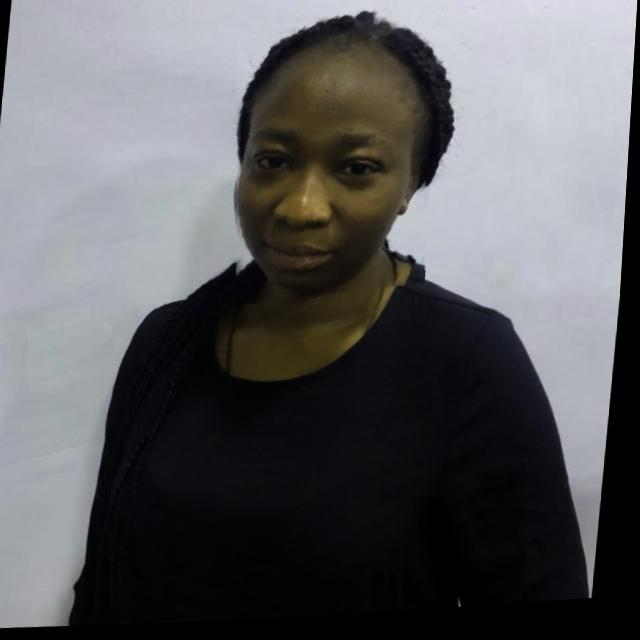sad: (221, 23, 444, 312)
